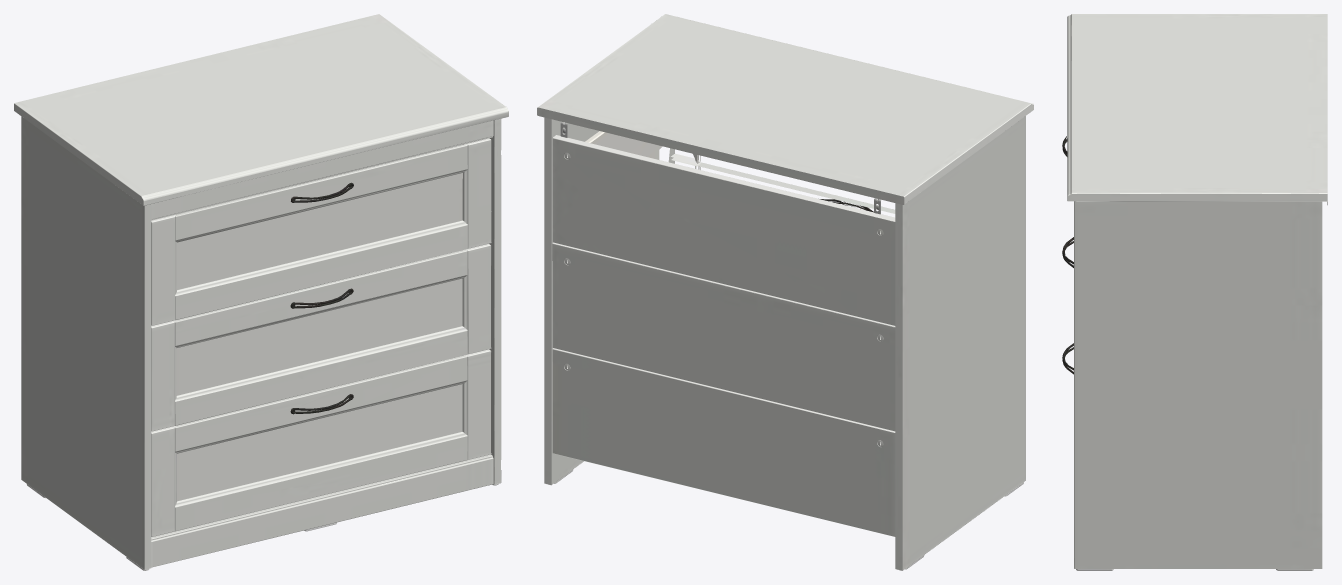
File: songesand-90366839.glb
The picture shows the model from 3 angles, left to right: view 1: azimuth 30°, elevation 25°; view 2: azimuth 150°, elevation 25°; view 3: azimuth 270°, elevation 25°; orthographic projection.
Visible parts, largest first — view 1: model; view 2: model; view 3: model.
Part boxes in pixels (<box>): model: <box>14,14,508,570</box>; model: <box>537,14,1033,570</box>; model: <box>1062,14,1327,570</box>.
Size of the model in its own units: 0.816 by 0.8059 by 0.5096.
Materials: 1 (1 with a texture image).
